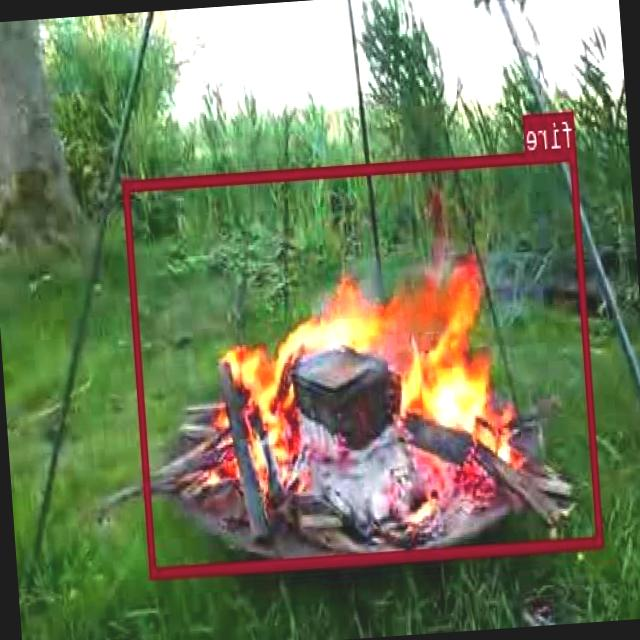fire: (123, 148, 604, 576)
